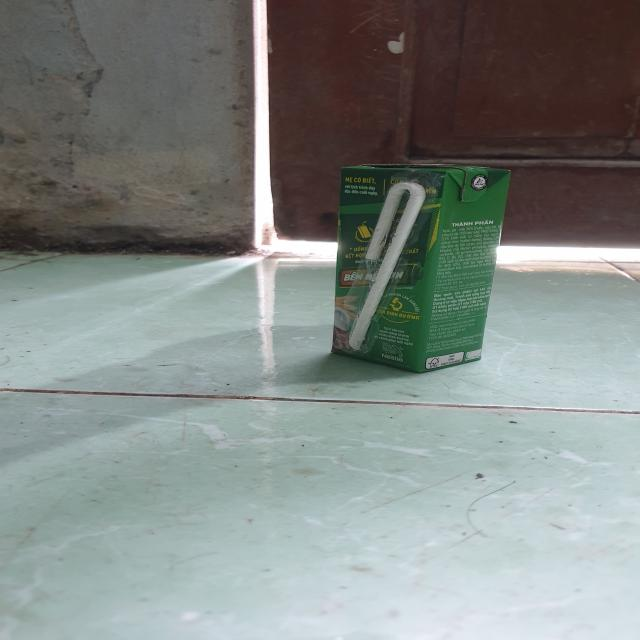Milo: (337, 160, 520, 374)
